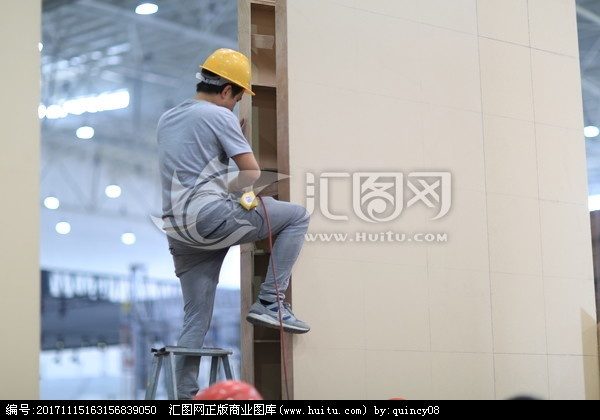yellow: (194, 45, 253, 114)
